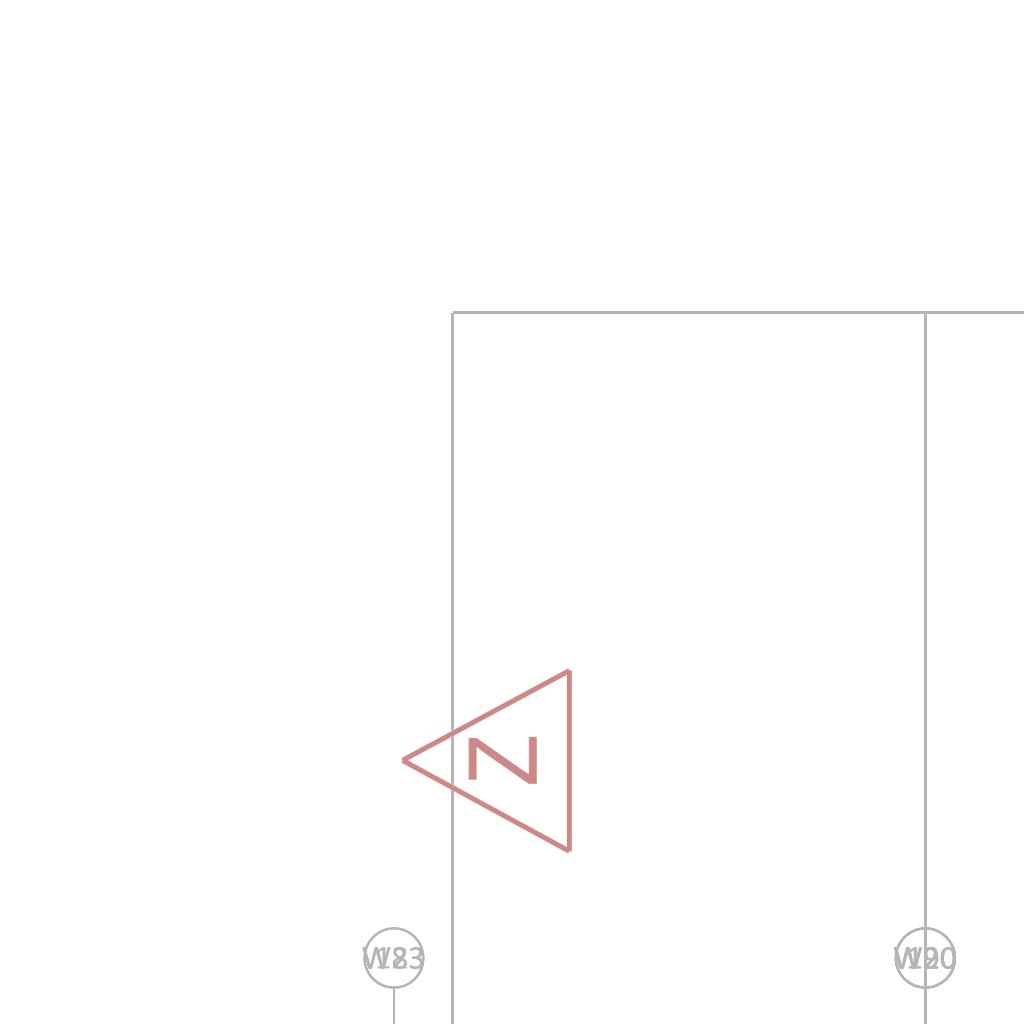Zimmersignalleuchte: (387, 665, 587, 861)
